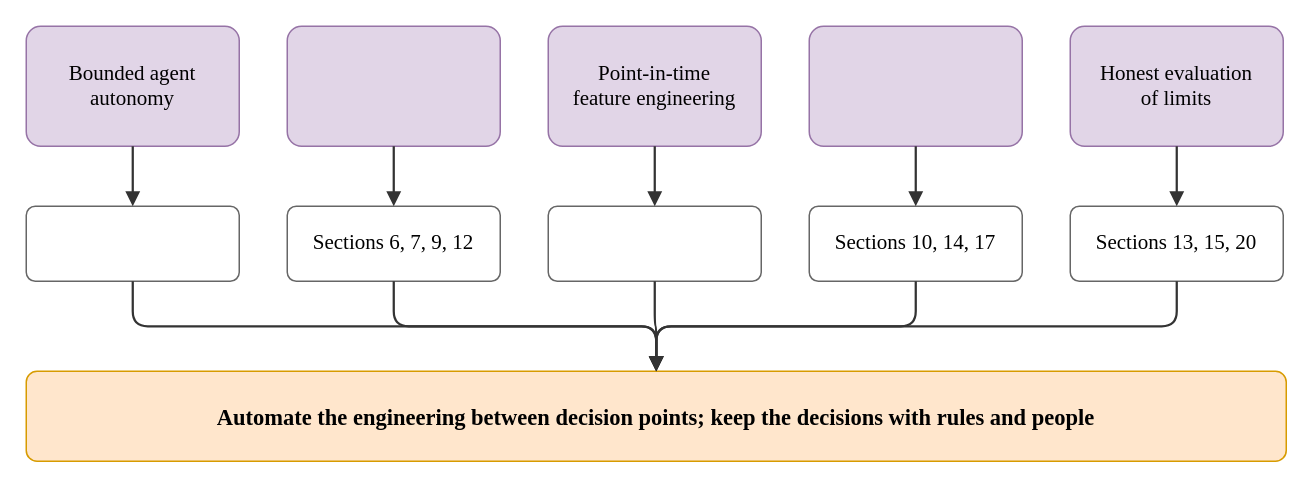
The diagram is 1313 pixels wide and 488 high, and some of its shapes have lost their labels. The centre of each missing label's shape, as x and y in pixels:
Evidence-first evaluation: the point at 915,85
Sections 5, 6, 11: the point at 132,243
Sections 7, 8: the point at 654,243
Template-constrained code generation: the point at 393,85
